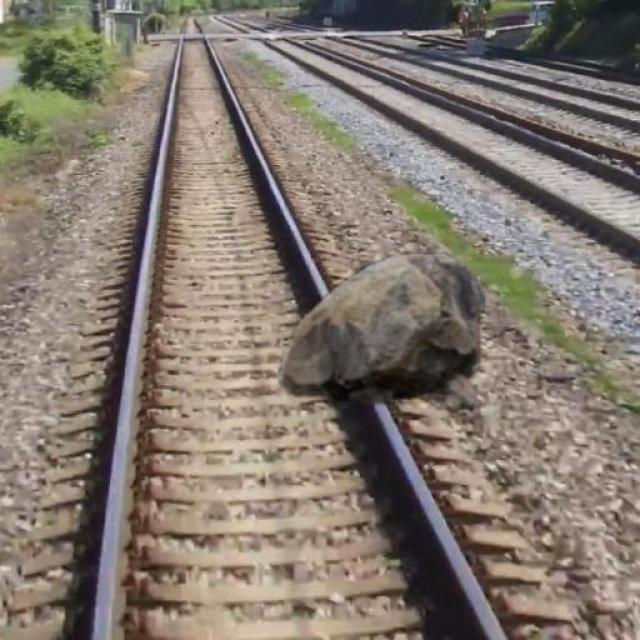Stone: (270, 255, 498, 409)
